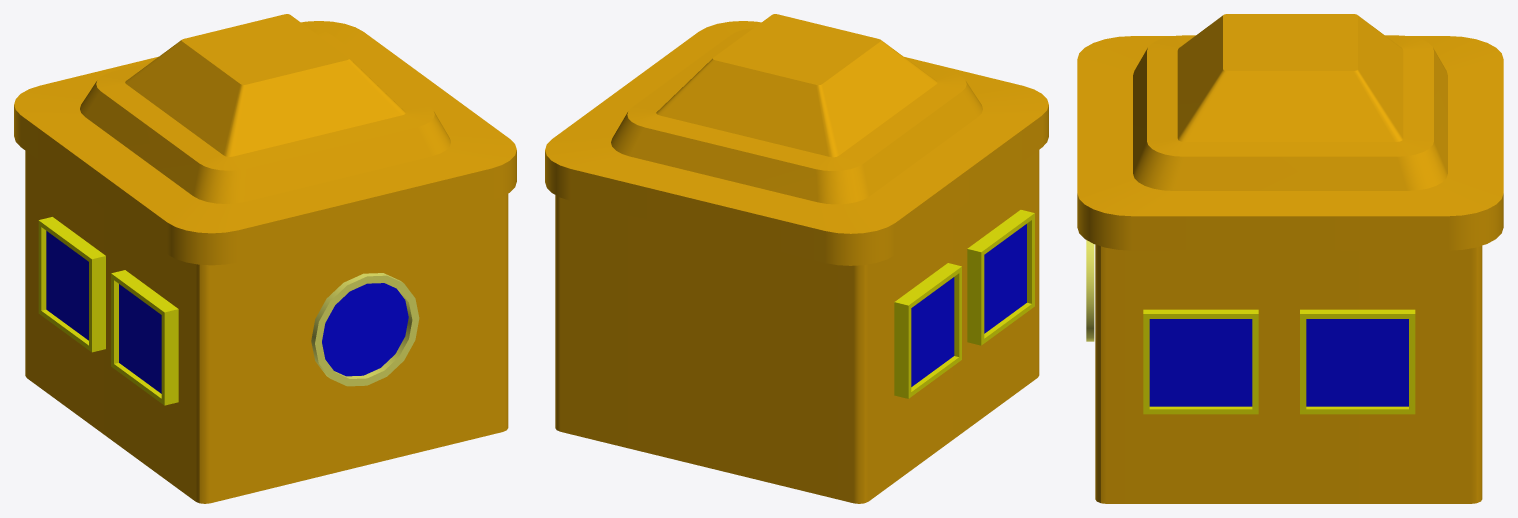
3 renders of one model, left to right at view 1: azimuth 30°, elevation 25°; view 2: azimuth 150°, elevation 25°; view 3: azimuth 270°, elevation 25°, orthographic. The views are drawn at different scales.
Visible parts, largest first — view 1: polySurface76, polySurface77, pTorus4, polySurface80, polySurface81; view 2: polySurface76, polySurface77, polySurface80, polySurface81; view 3: polySurface77, polySurface76, polySurface79, polySurface78, pTorus4.
Part boxes in pixels (<box>): polySurface76: <box>25,151,508,503</box>; polySurface77: <box>14,14,516,265</box>; pTorus4: <box>311,273,419,386</box>; polySurface80: <box>111,270,178,405</box>; polySurface81: <box>38,217,105,352</box>; polySurface76: <box>555,150,1039,503</box>; polySurface77: <box>545,14,1048,265</box>; polySurface80: <box>967,210,1034,345</box>; polySurface81: <box>894,263,961,398</box>; polySurface77: <box>1077,14,1503,250</box>; polySurface76: <box>1095,244,1482,503</box>; polySurface79: <box>1143,309,1258,414</box>; polySurface78: <box>1300,309,1415,414</box>; pTorus4: <box>1086,240,1094,341</box>.
Bounding box in the file's own units: 3252 × 3193 × 3252.
